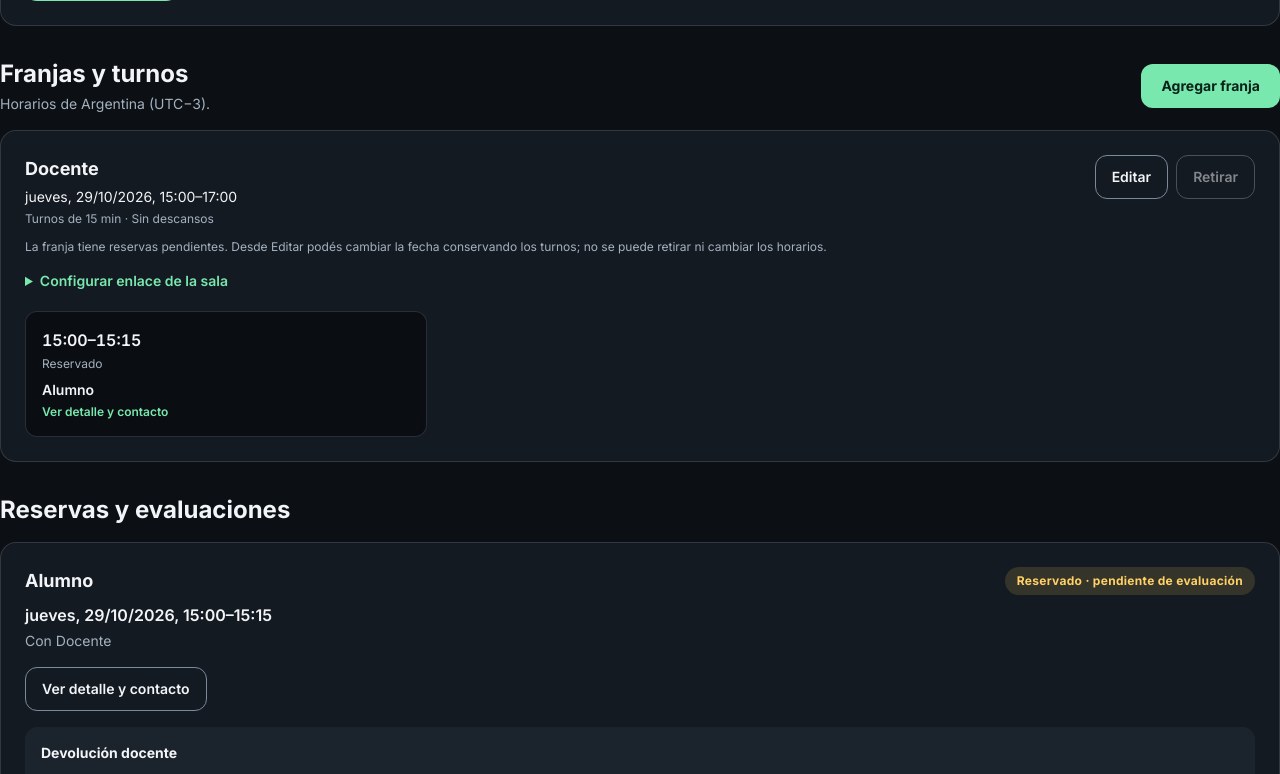
Test: resultado y notas privadas del turno › muestra un teléfono incompleto sin crear un enlace de WhatsApp erróneo
This screenshot has width=1280, height=774.
(page scrolled)
Step 1. Click the button with aria-label "Ver detalle del turno de Alumno" → (65, 340), box [26,312,426,436]
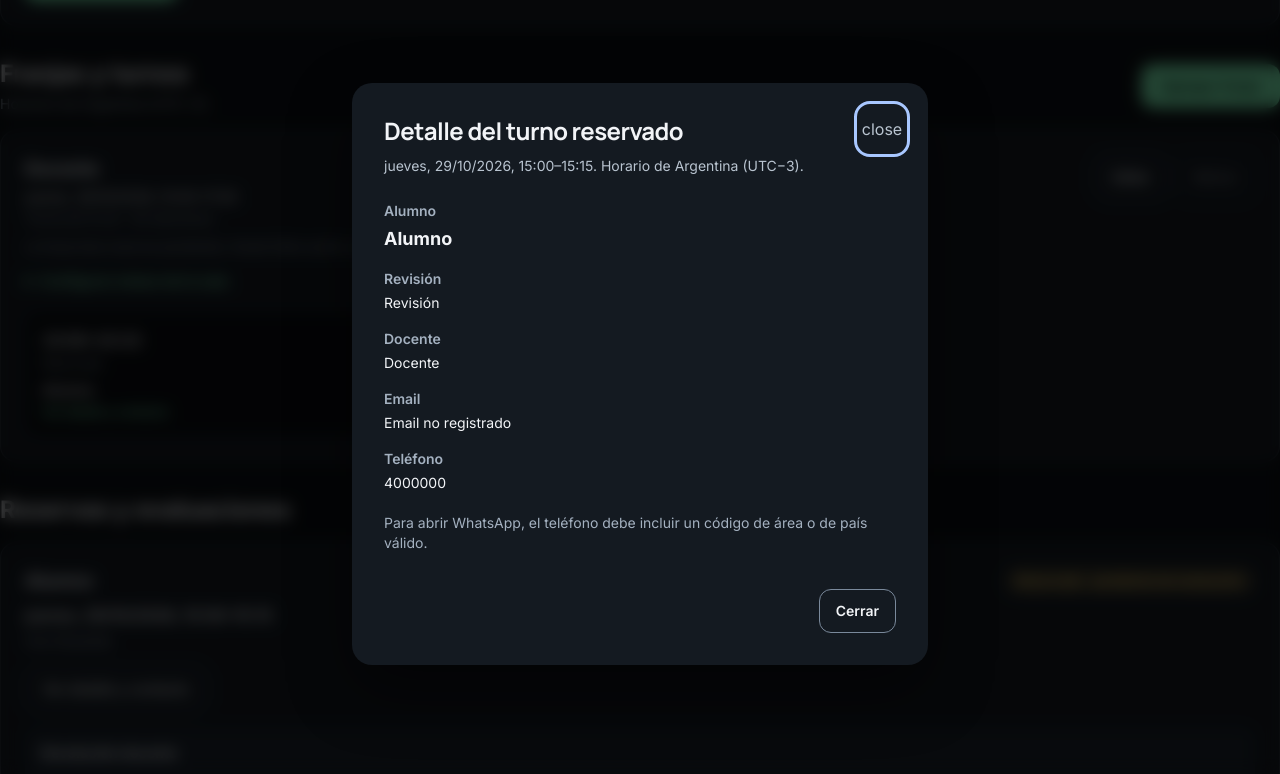
Check: the text "4000000" is shown, box [384,474,446,491]
